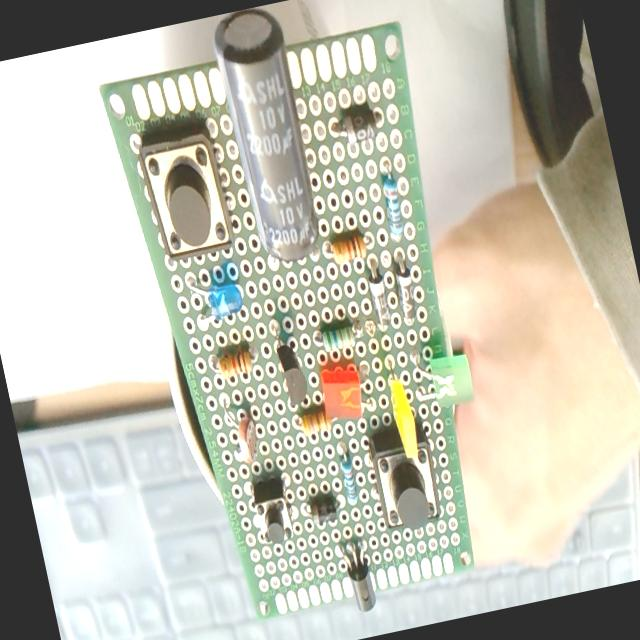Electrolytic capacitor: (208, 2, 330, 268)
cds: (218, 390, 264, 467)
diode: (328, 107, 382, 150), (390, 256, 423, 326), (365, 266, 394, 330), (306, 492, 340, 526)
led: (403, 338, 472, 411), (184, 262, 249, 326), (316, 360, 368, 426), (387, 379, 422, 461)
resistor: (377, 173, 408, 243), (328, 230, 367, 264), (318, 322, 358, 352), (217, 348, 253, 380), (338, 456, 361, 506), (300, 406, 330, 436)
switch: (136, 123, 238, 264), (364, 422, 446, 534), (249, 475, 297, 548)
transistor: (266, 329, 311, 408), (336, 537, 380, 616)
